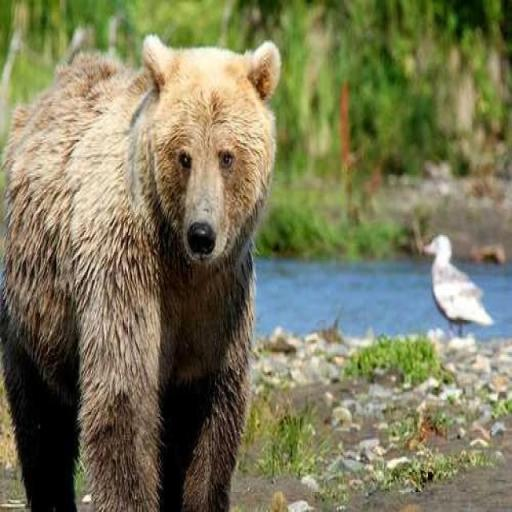Bear: (0, 32, 282, 510)
